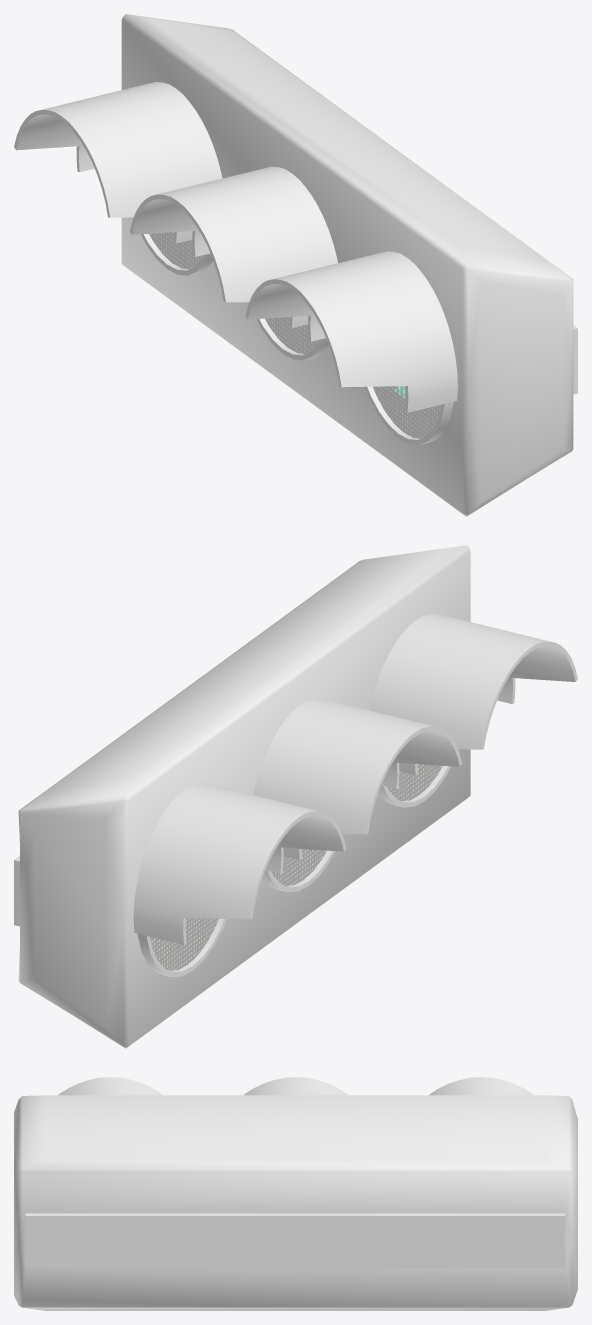
The model's file is 横向右转灯_GreenLight.glb.
3 views of the same model, one above another, from view 1: azimuth 30°, elevation 25°; view 2: azimuth 150°, elevation 25°; view 3: azimuth 270°, elevation 25° (orthographic). The views are drawn at different scales.
Parts seen in each view (by area): view 1: 横向右转灯_GreenLight; view 2: 横向右转灯_GreenLight; view 3: 横向右转灯_GreenLight.
Part boxes in pixels (x1=…): 横向右转灯_GreenLight: x1=14, y1=14, x2=577, y2=516; 横向右转灯_GreenLight: x1=14, y1=545, x2=577, y2=1048; 横向右转灯_GreenLight: x1=14, y1=1077, x2=577, y2=1310.
Size of the model in its own units: 0.6 by 0.65 by 1.58.
Materials: 3 (2 with a texture image).
